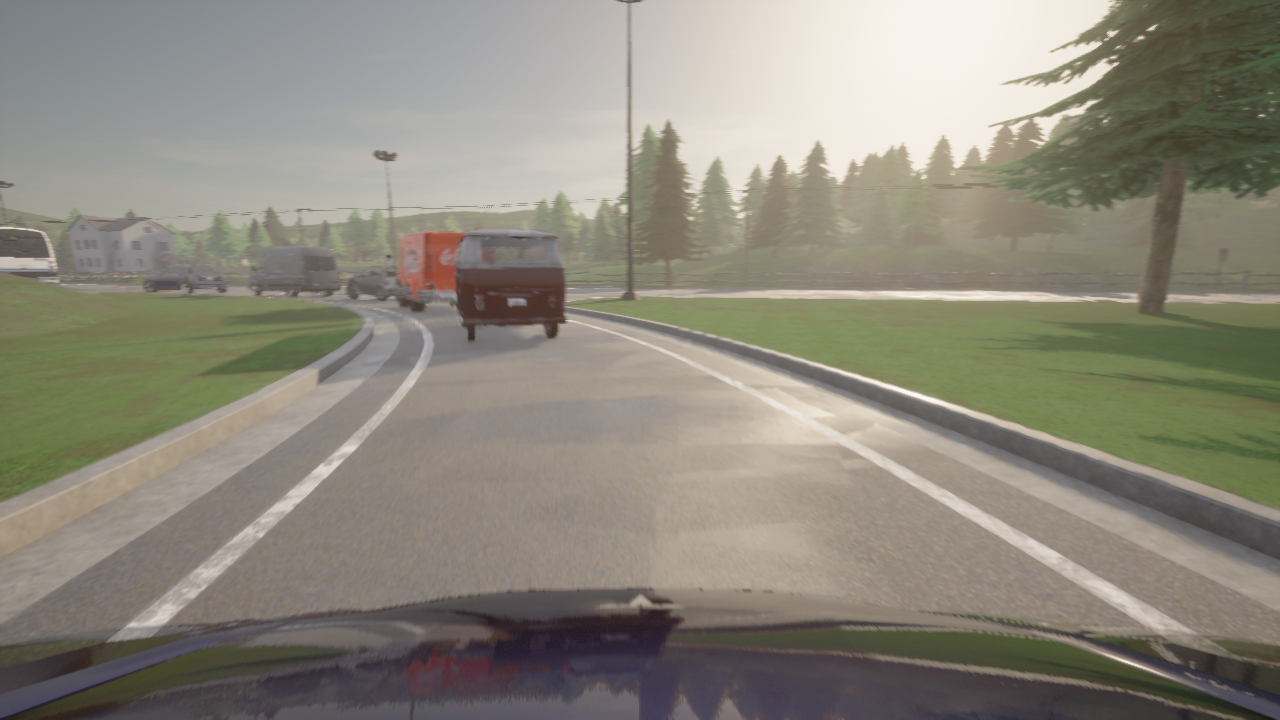cyclist: (0, 588, 1279, 719), (450, 229, 566, 341), (386, 231, 464, 312), (248, 246, 340, 297), (143, 264, 227, 293), (347, 264, 397, 301)
